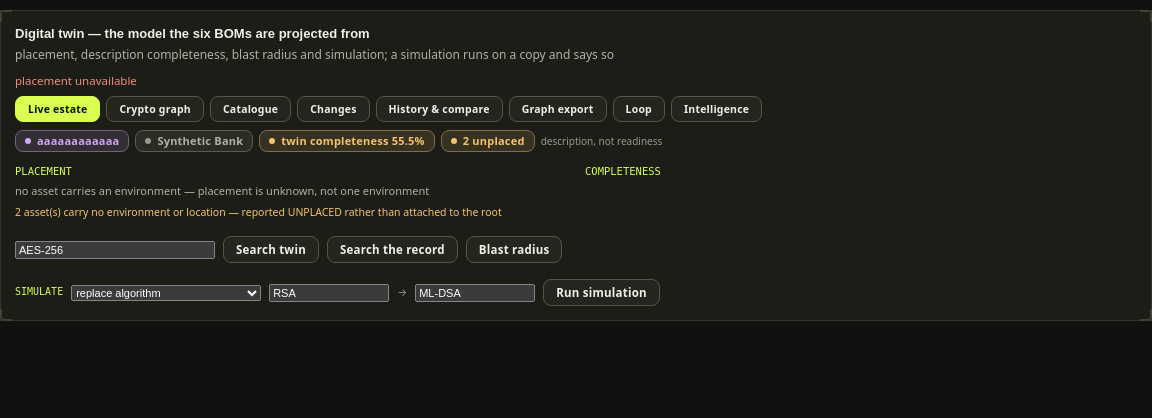
it: says a record search that found nothing is a gap in observation, not a denial
This screenshot has width=1152, height=418.
Step 1. Replace the text in the field named "search the twin" with "Kyber-1024" → (115, 250), box [15,241,215,259]
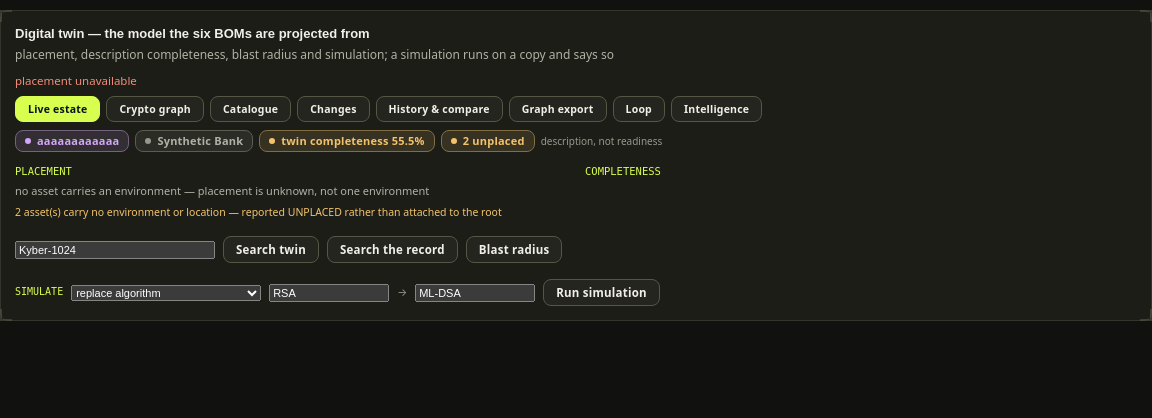
Step 2. Click the button "Search the record" → (392, 250), box [327,236,458,263]
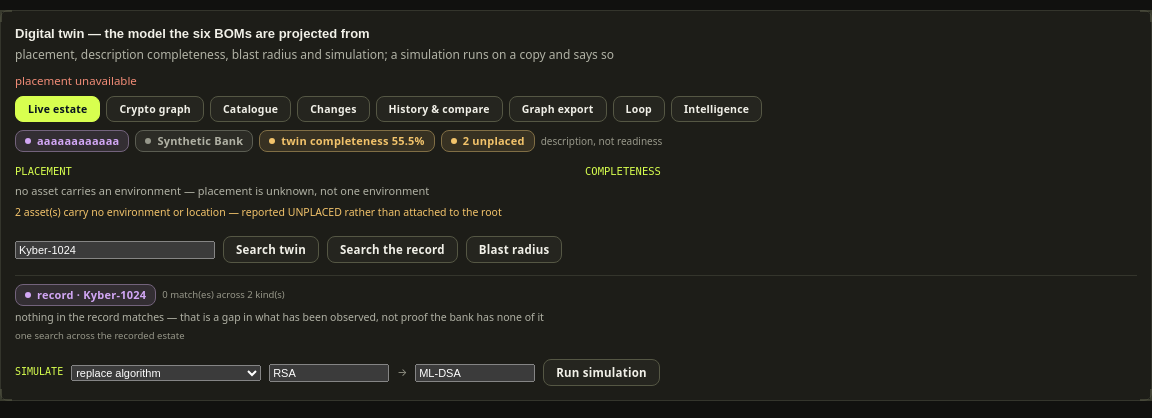
Expected: the text "record · Kyber-1024" is shown, [15,284,156,306]
Expected: the text "not proof the bank has none of it" is shown, [15,310,544,324]
